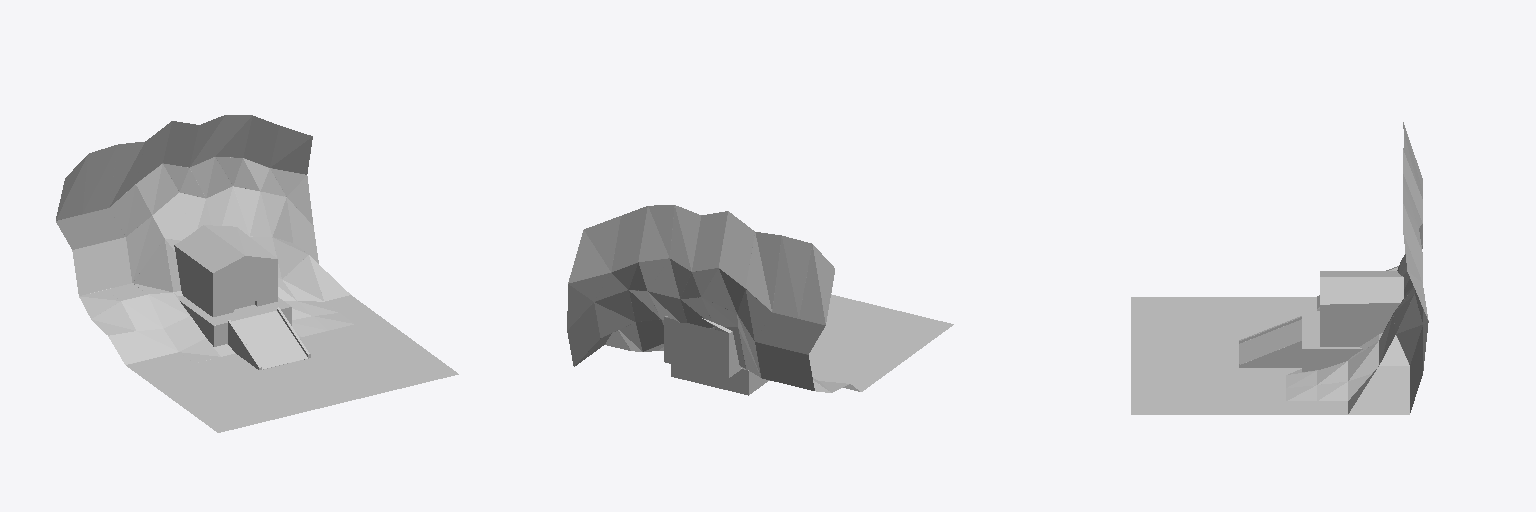
The model's file is ziggurat.obj.
3 renders of one model, left to right at view 1: azimuth 30°, elevation 25°; view 2: azimuth 150°, elevation 25°; view 3: azimuth 270°, elevation 25°, orthographic.
Visible parts, largest first — view 1: Grid, Cube.002_Cube.004, Cube.001_Cube.003; view 2: Grid, Cube.002_Cube.004, Cube.001_Cube.003; view 3: Grid, Cube.002_Cube.004, Cube.001_Cube.003.
Boxes of the visible parts, <box> form: Grid: <box>56,115,458,432</box>; Cube.002_Cube.004: <box>174,225,277,316</box>; Cube.001_Cube.003: <box>178,296,310,369</box>; Grid: <box>567,205,953,392</box>; Cube.002_Cube.004: <box>664,316,740,377</box>; Cube.001_Cube.003: <box>671,364,769,395</box>; Grid: <box>1131,122,1428,414</box>; Cube.002_Cube.004: <box>1320,271,1403,346</box>; Cube.001_Cube.003: <box>1239,311,1362,371</box>.
Size of the model in its own units: 214 by 151 by 213.